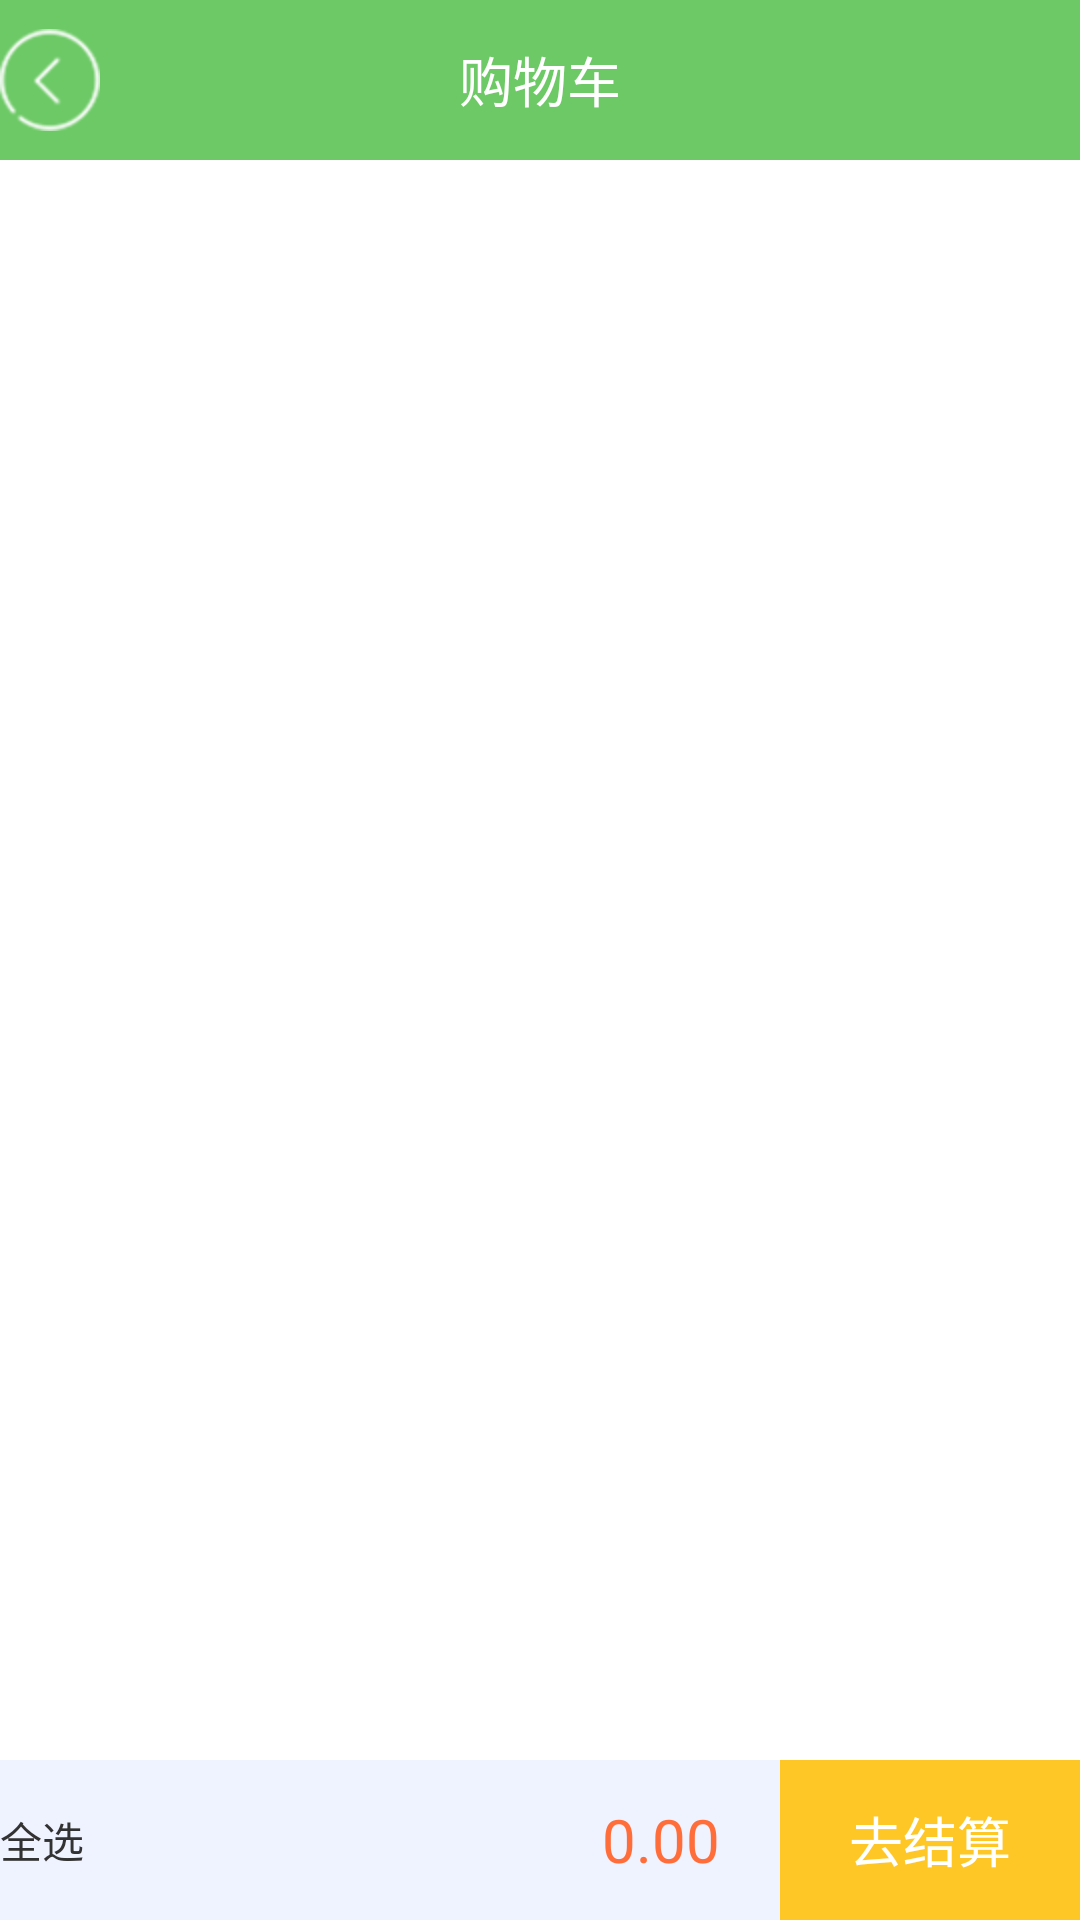

Icons on this 1080px x 1920px Android screen, each with its box as [left=x1, top=y1, right=x2, bottom=y2]:
back up: [left=0, top=29, right=100, bottom=131]
